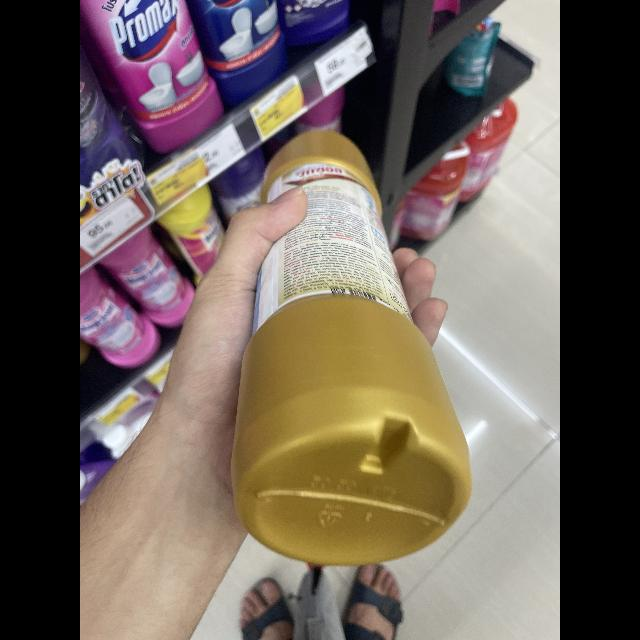chemical_plastic_bottle: (230, 126, 480, 570)
